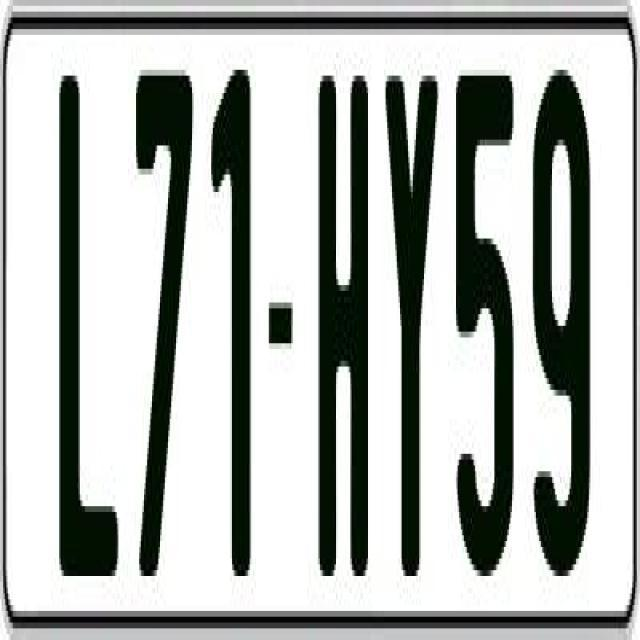1: (208, 58, 256, 582)
5: (451, 63, 512, 564)
7: (131, 76, 189, 612)
9: (530, 52, 588, 588)
H: (314, 64, 364, 576)
L: (58, 64, 119, 594)
Y: (381, 76, 440, 594)
